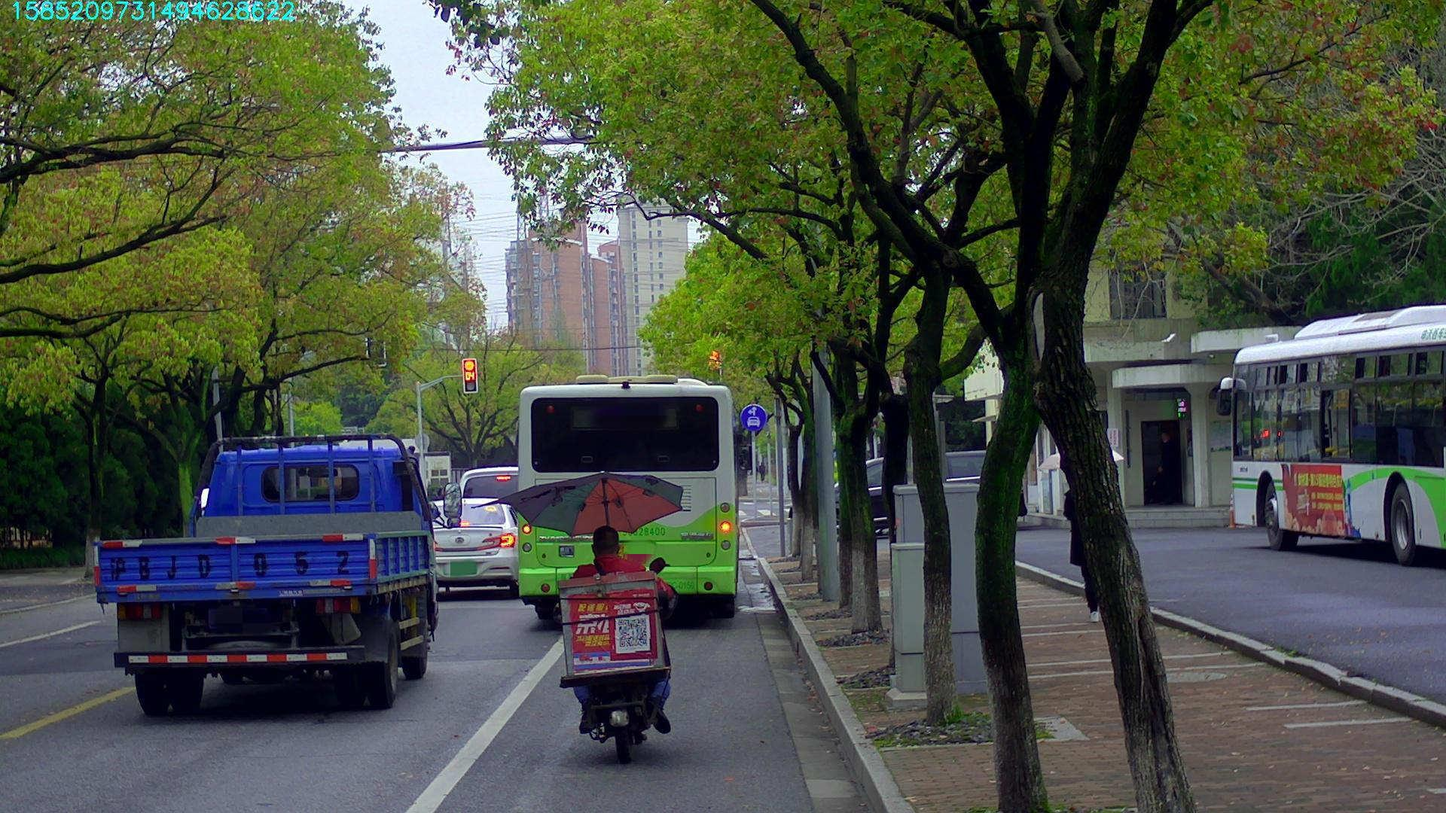red: (706, 344, 721, 382), (463, 359, 475, 391)
